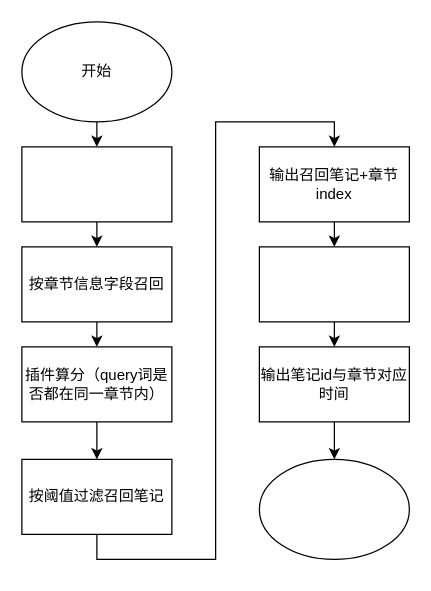
The diagram is 431 pixels wide and 591 high, and some of its shapes have lost their labels. The centre of each missing label's shape, as x and y in pixels:
query: point (96, 184)
根据笔记id和章节index获取正排时间: point (333, 284)
结束: point (333, 508)
